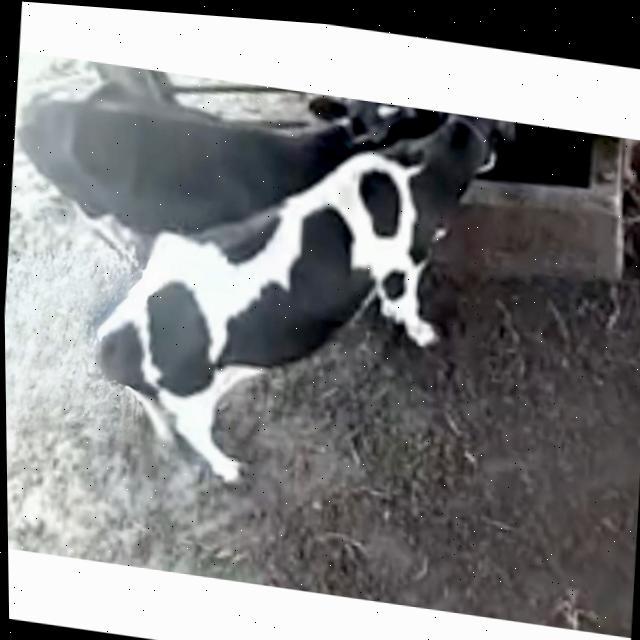drink: (337, 96, 620, 212)
